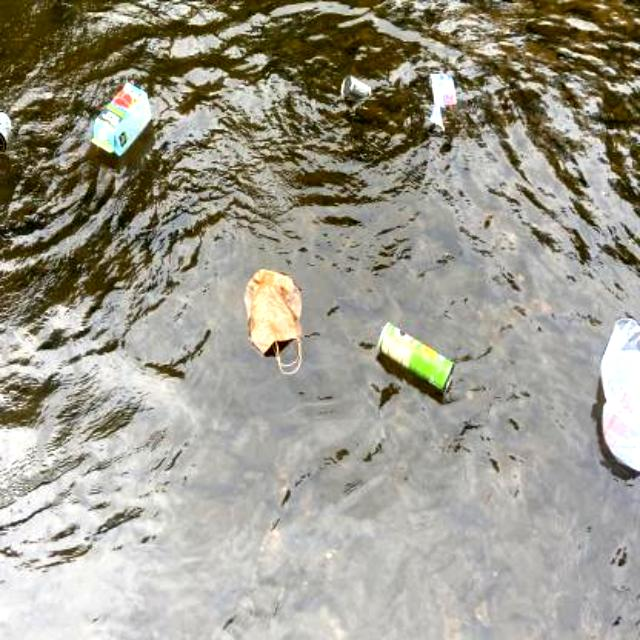Cardboard: (89, 78, 155, 162)
Metal: (374, 320, 458, 400), (337, 73, 375, 103)
Paper: (240, 265, 306, 377)
Plastic: (595, 310, 639, 480), (427, 68, 459, 132), (0, 106, 12, 155)
